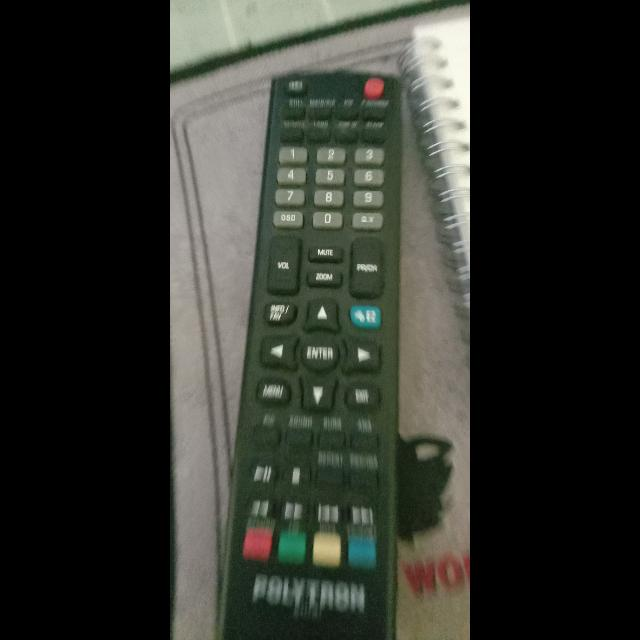TV-Remote-Control: (216, 71, 419, 640)
